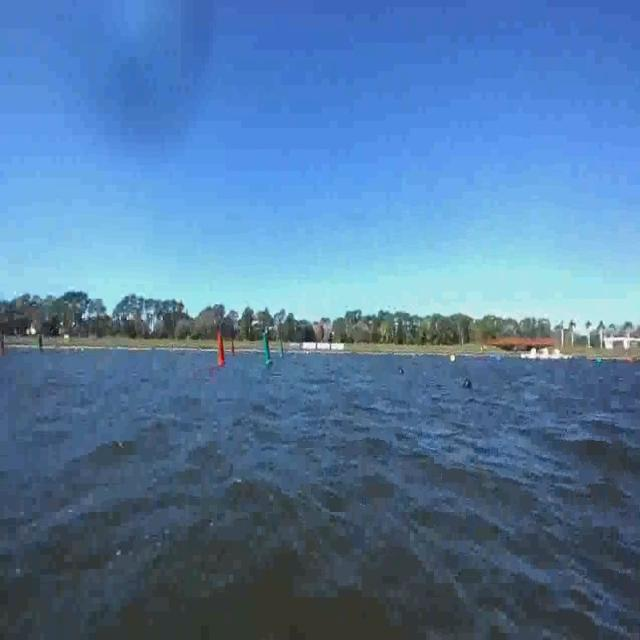black-buoy: (466, 379, 472, 392), (398, 366, 406, 373)
green-column-buoy: (263, 332, 275, 367)
red-column-buoy: (218, 333, 227, 368)
